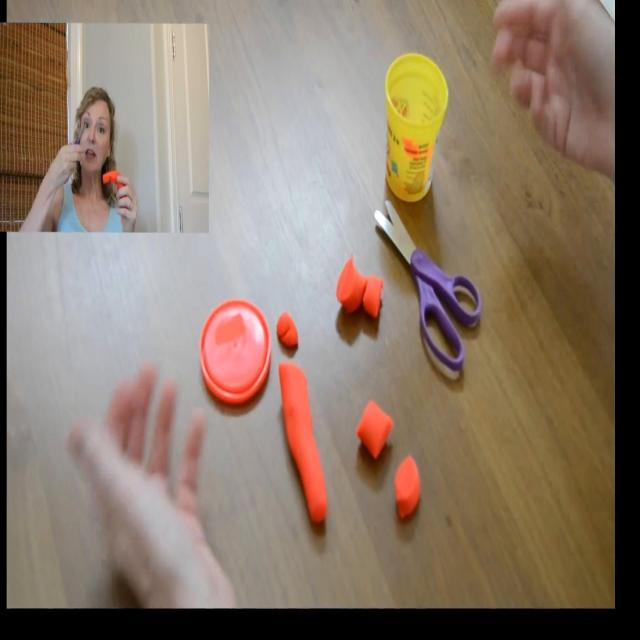scissor: (374, 200, 481, 370), (72, 121, 86, 150)
